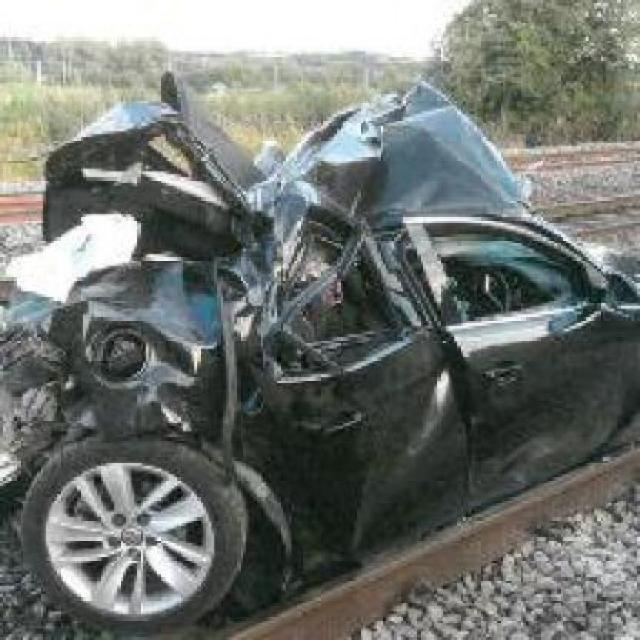damaged-door: (401, 210, 628, 495), (256, 240, 447, 572)
